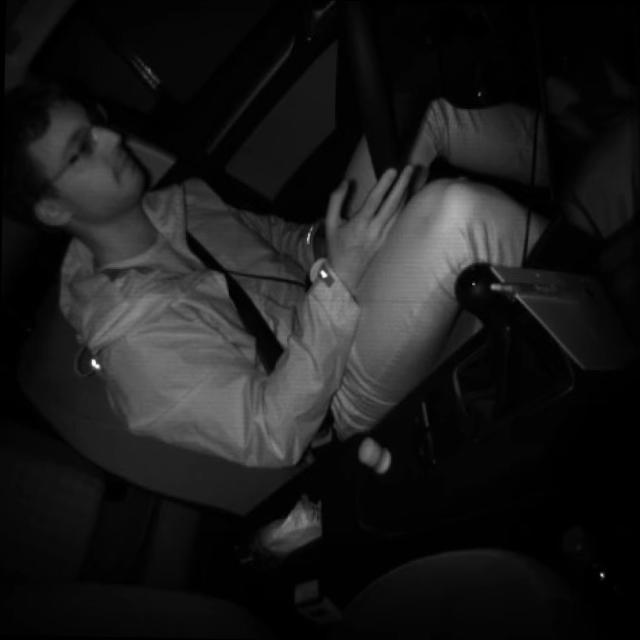pen: (488, 280, 598, 298)
